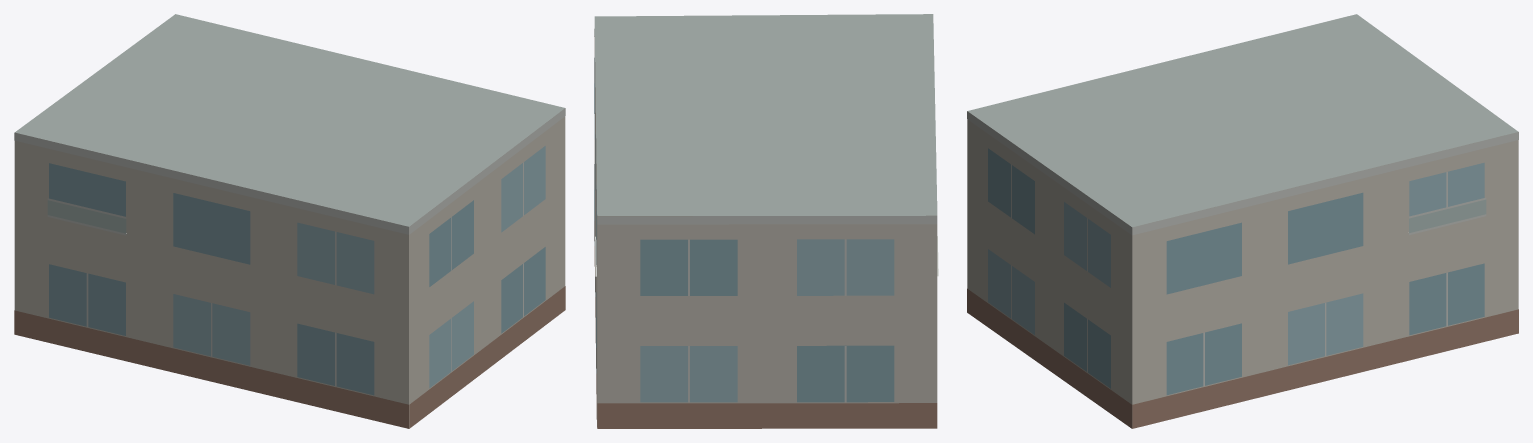
File: survey-upis-32685121.glb
The picture shows the model from 3 angles, left to right: view 1: azimuth 30°, elevation 25°; view 2: azimuth 150°, elevation 25°; view 3: azimuth 270°, elevation 25°; orthographic projection. The views are drawn at different scales.
Visible parts, largest first — view 1: survey-upis-32685121.tmp; view 2: survey-upis-32685121.tmp; view 3: survey-upis-32685121.tmp.
Boxes of the visible parts, <box> form: survey-upis-32685121.tmp: <box>14,14,565,428</box>; survey-upis-32685121.tmp: <box>594,14,938,428</box>; survey-upis-32685121.tmp: <box>967,14,1518,428</box>.
Bounding box in the file's own units: 13.86 × 6.1 × 15.14.
